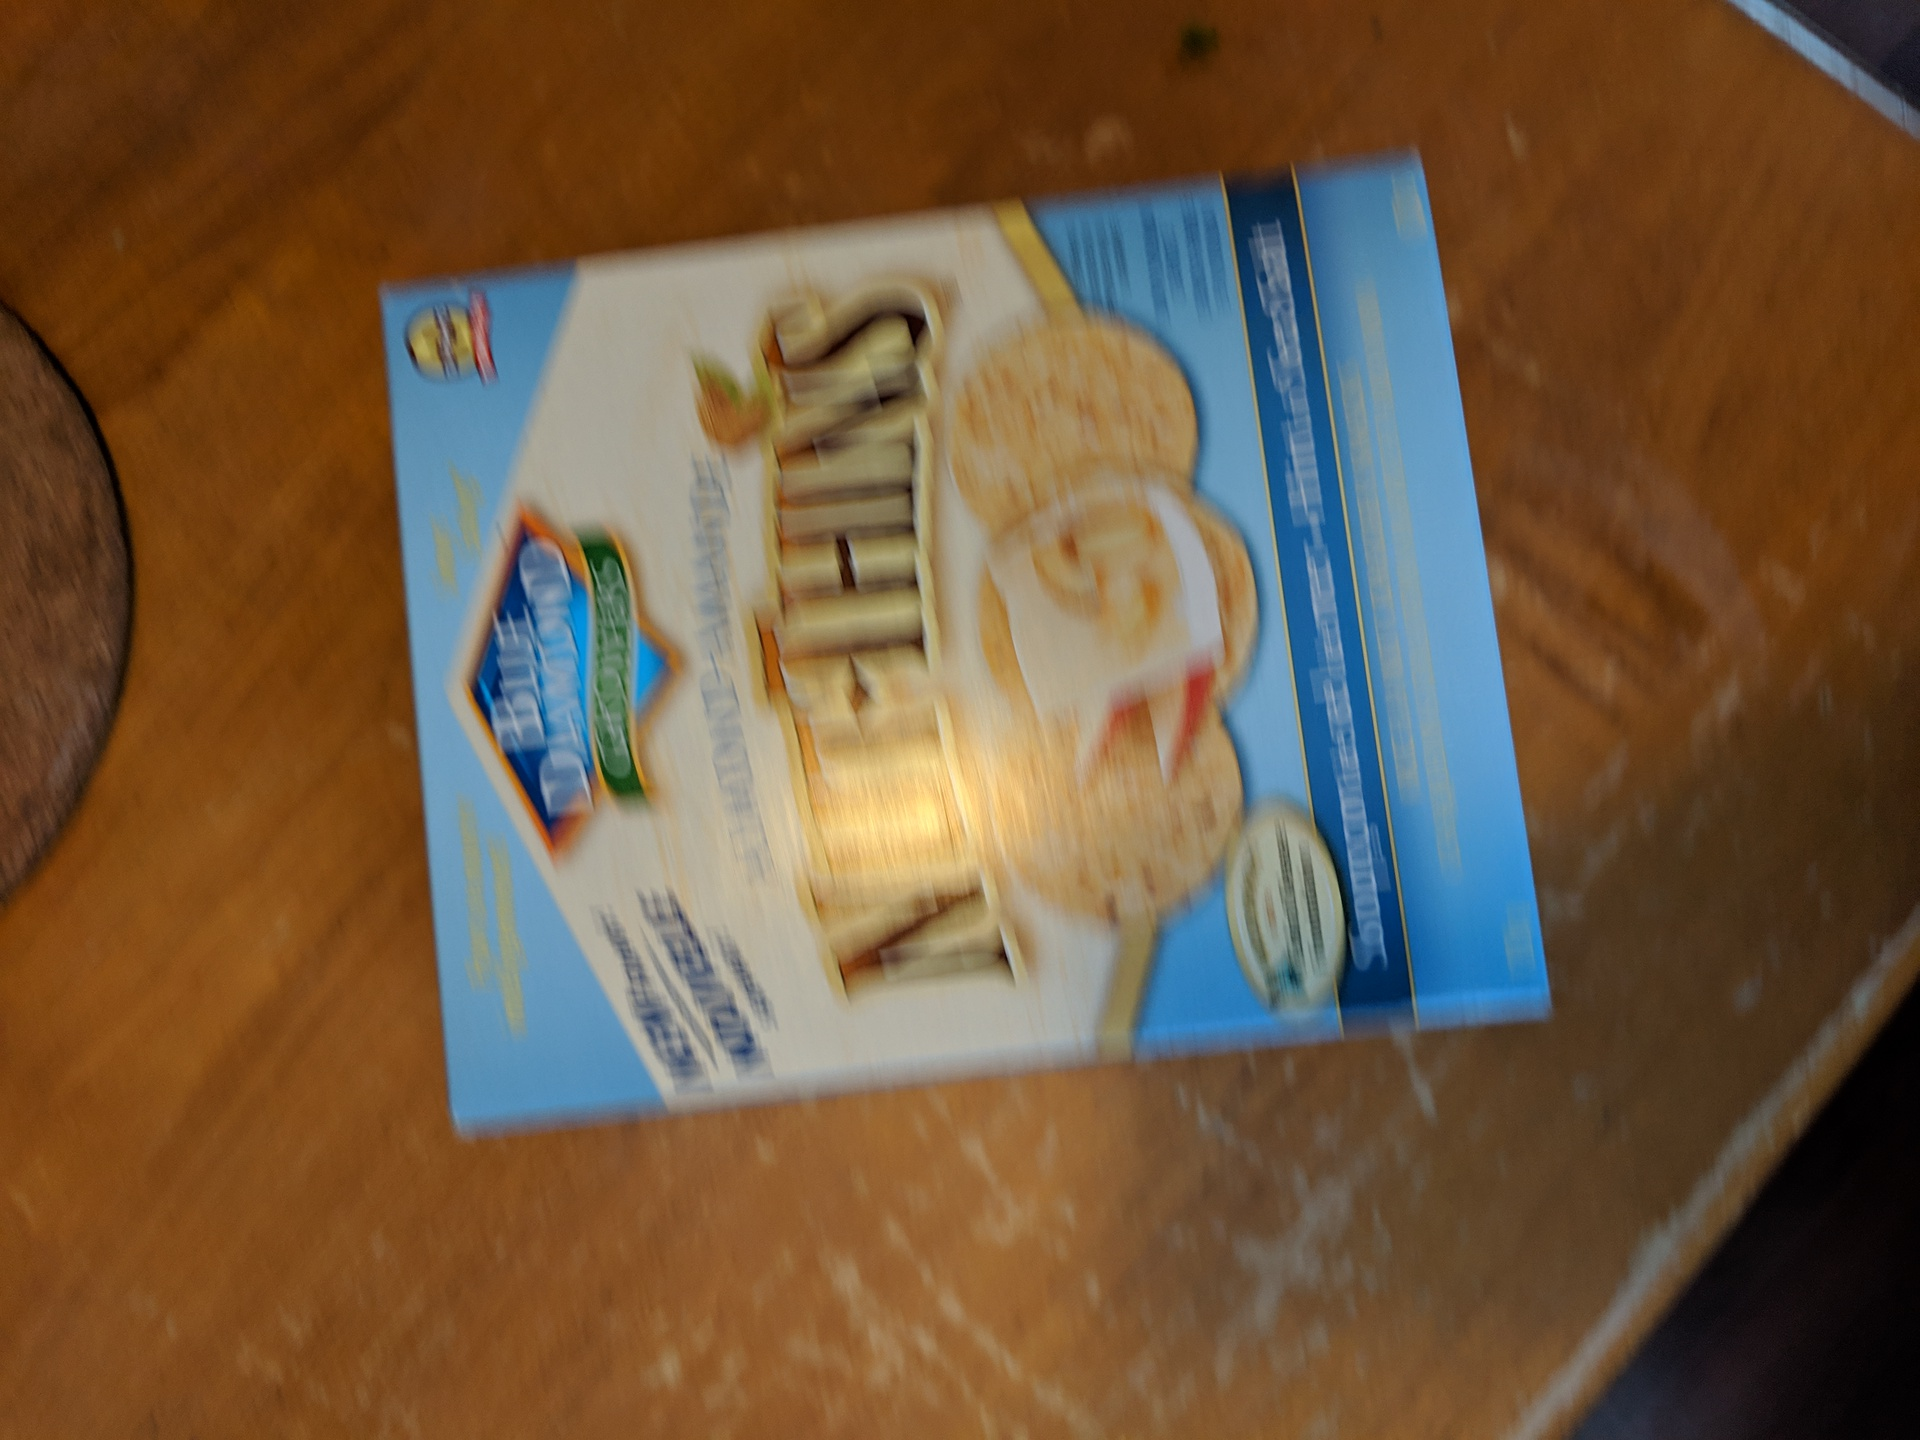blue_diamond_nut_thins_almond_seasalt: (407, 262, 1534, 1059)
